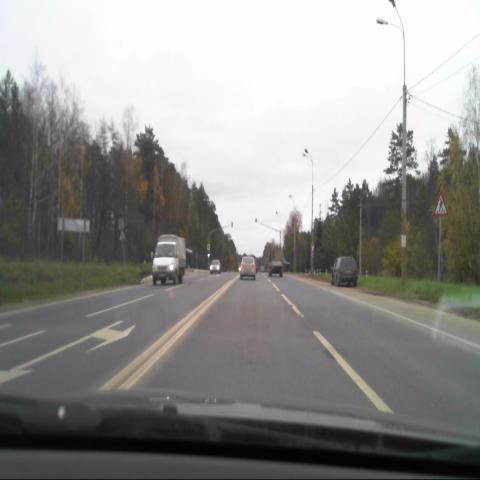1_22: (435, 192, 448, 216)
